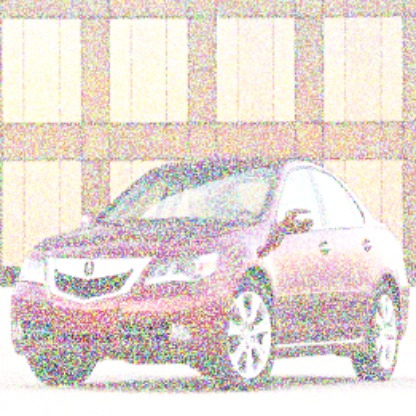Vehicle: (9, 156, 413, 393)
